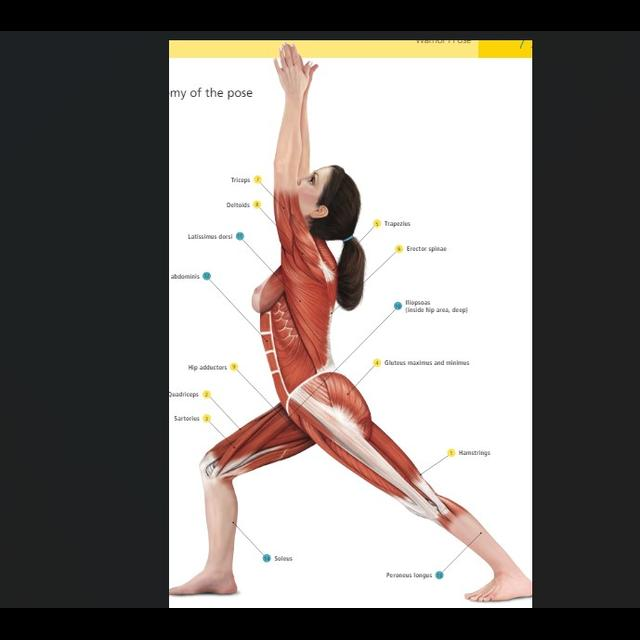Warrior_I: (172, 42, 527, 602)
